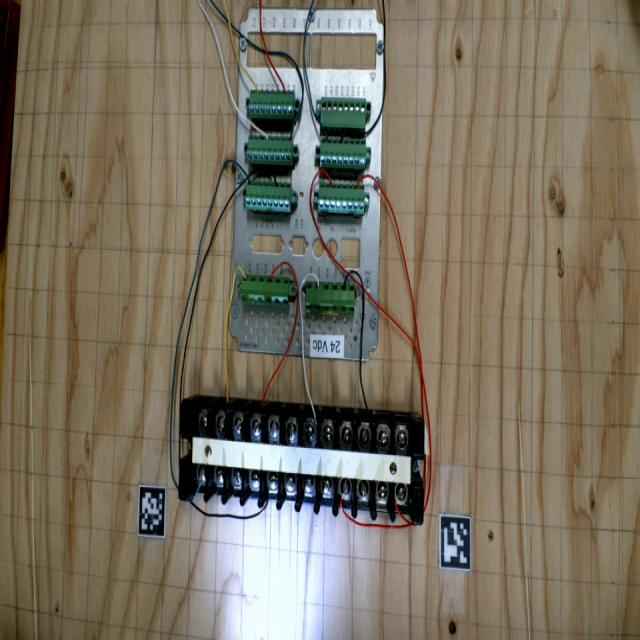Flathead_Block: (171, 395, 433, 524)
Terminal_1: (239, 272, 291, 309), (306, 281, 355, 316)
Terminal_2: (318, 182, 365, 214), (245, 180, 292, 212), (319, 138, 367, 169), (247, 135, 293, 165), (249, 91, 294, 119)
